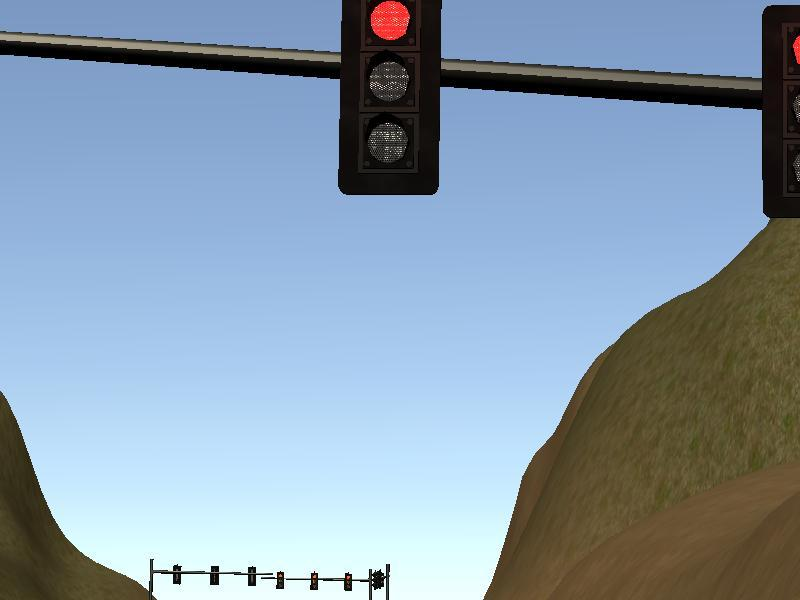Red: (339, 1, 440, 197), (276, 572, 284, 590), (343, 573, 351, 591), (309, 573, 317, 591)
